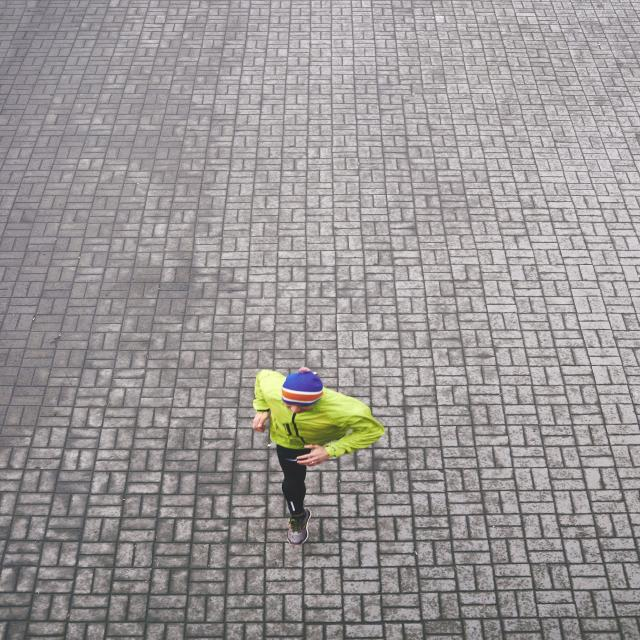adult: (248, 364, 389, 546)
